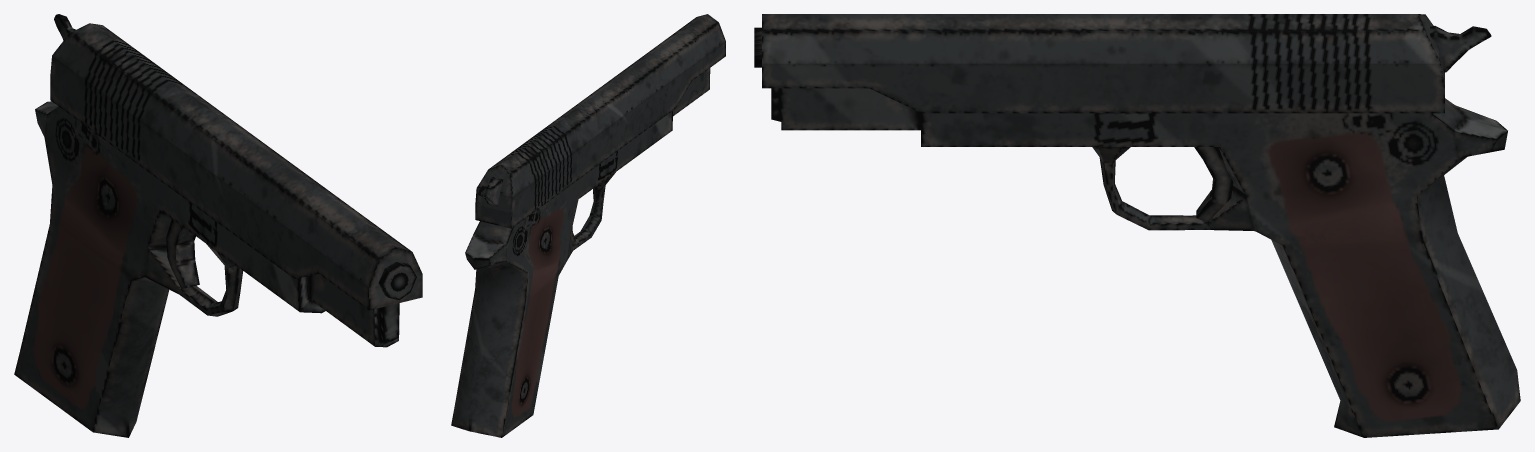
The model's file is pistol.fbx.
The picture shows the model from 3 angles, left to right: view 1: azimuth 30°, elevation 25°; view 2: azimuth 150°, elevation 25°; view 3: azimuth 270°, elevation 25°; orthographic projection. The views are drawn at different scales.
Parts seen in each view (by area): view 1: frame_MESH, slide_MESH, trigger_MESH, muzzle_MESH; view 2: frame_MESH, slide_MESH, hammer_MESH; view 3: frame_MESH, slide_MESH, trigger_MESH, hammer_MESH.
Part boxes in pixels (<box>): frame_MESH: <box>14,101,399,437</box>; slide_MESH: <box>50,23,422,310</box>; trigger_MESH: <box>166,219,199,288</box>; muzzle_MESH: <box>378,262,416,299</box>; frame_MESH: <box>451,68,710,437</box>; slide_MESH: <box>475,14,725,228</box>; hammer_MESH: <box>478,177,503,206</box>; frame_MESH: <box>771,88,1520,437</box>; slide_MESH: <box>762,14,1444,113</box>; trigger_MESH: <box>1194,147,1233,222</box>; hammer_MESH: <box>1430,26,1491,72</box>.
Size of the model in its own units: 0.9289 by 4.53 by 7.62.
